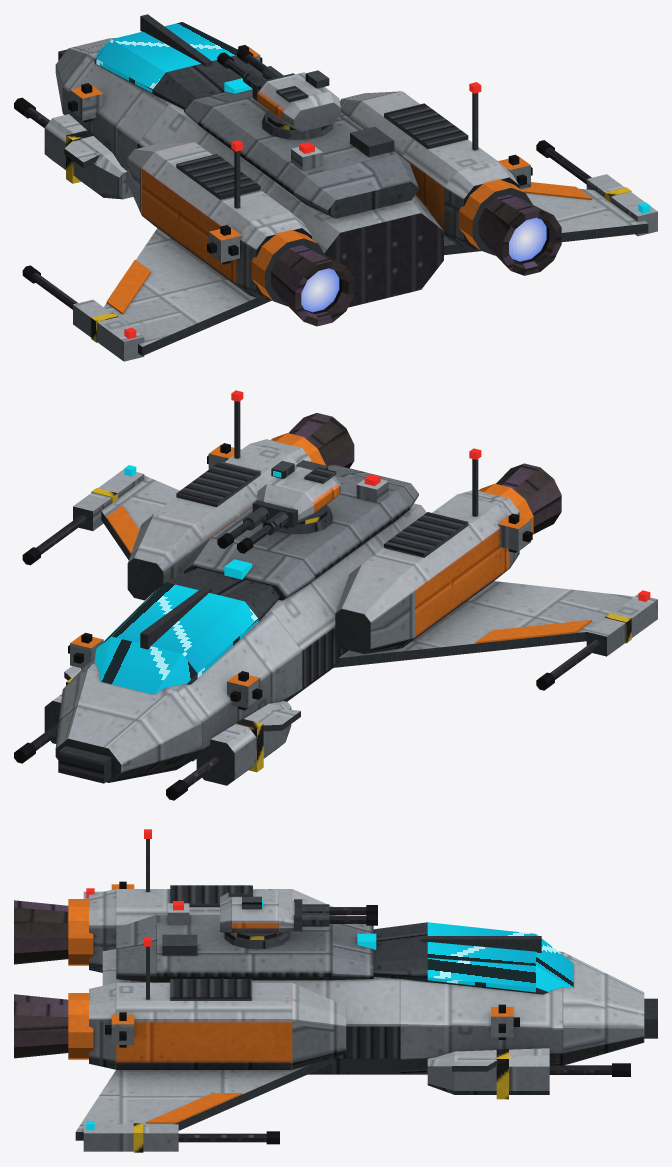
File: interceptor.glb
3 renders of one model, top to bottom at view 1: azimuth 30°, elevation 25°; view 2: azimuth 150°, elevation 25°; view 3: azimuth 270°, elevation 25°, orthographic. The views are drawn at different scales.
Parts seen in each view (by area): view 1: interceptor; view 2: interceptor; view 3: interceptor.
Boxes of the visible parts, x1,y1,x2,y2 form: interceptor: (14,14,657,361); interceptor: (14,390,657,800); interceptor: (14,829,657,1152).
Bounding box in the file's own units: 1.42 × 0.4812 × 1.6.
Materials: 2 (2 with a texture image).
